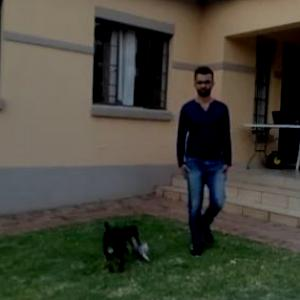follow: (174, 65, 235, 254)
